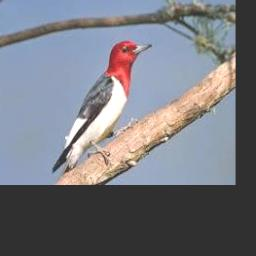Woodpecker: (52, 40, 152, 179)
